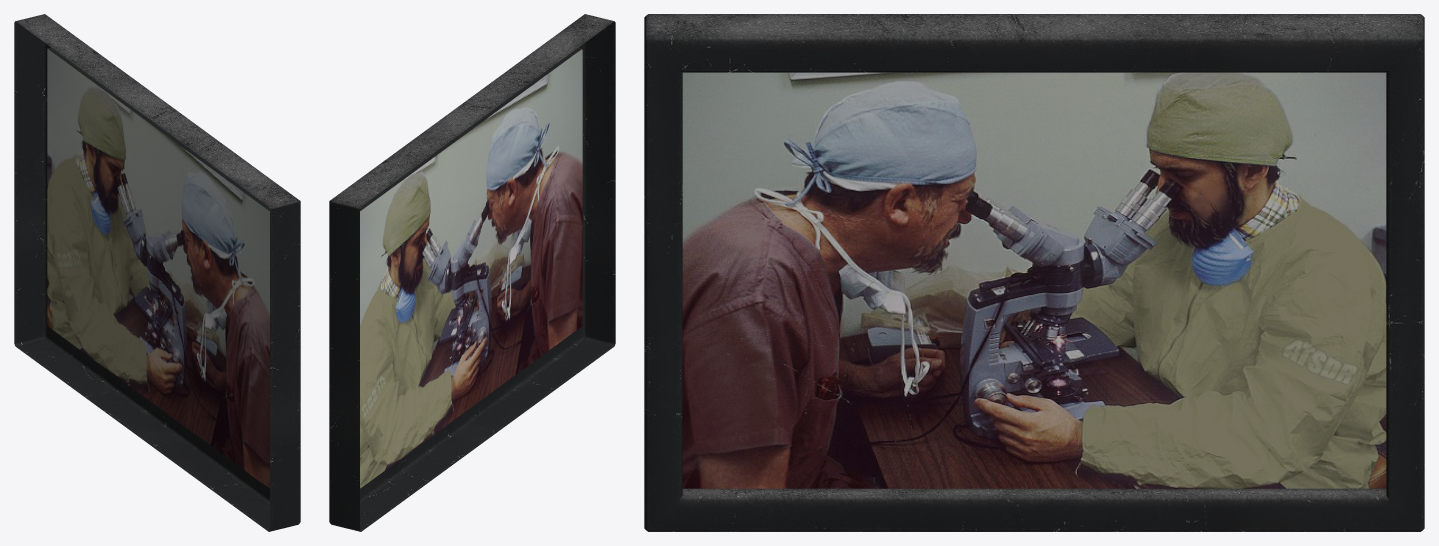
Rendered from cadrephoto1.gltf.
3 views of the same model, side by side, from view 1: azimuth 30°, elevation 25°; view 2: azimuth 150°, elevation 25°; view 3: azimuth 270°, elevation 25° (orthographic). The views are drawn at different scales.
Visible parts, largest first — view 1: PhotoFrame1_47; view 2: PhotoFrame1_47; view 3: PhotoFrame1_47.
Boxes of the visible parts, x1,y1,x2,y2 form: PhotoFrame1_47: [14, 14, 300, 531]; PhotoFrame1_47: [329, 14, 615, 531]; PhotoFrame1_47: [644, 14, 1424, 531].
Size of the model in its own units: 0.0242 by 0.2351 by 0.3352.
Materials: 1 (1 with a texture image).
